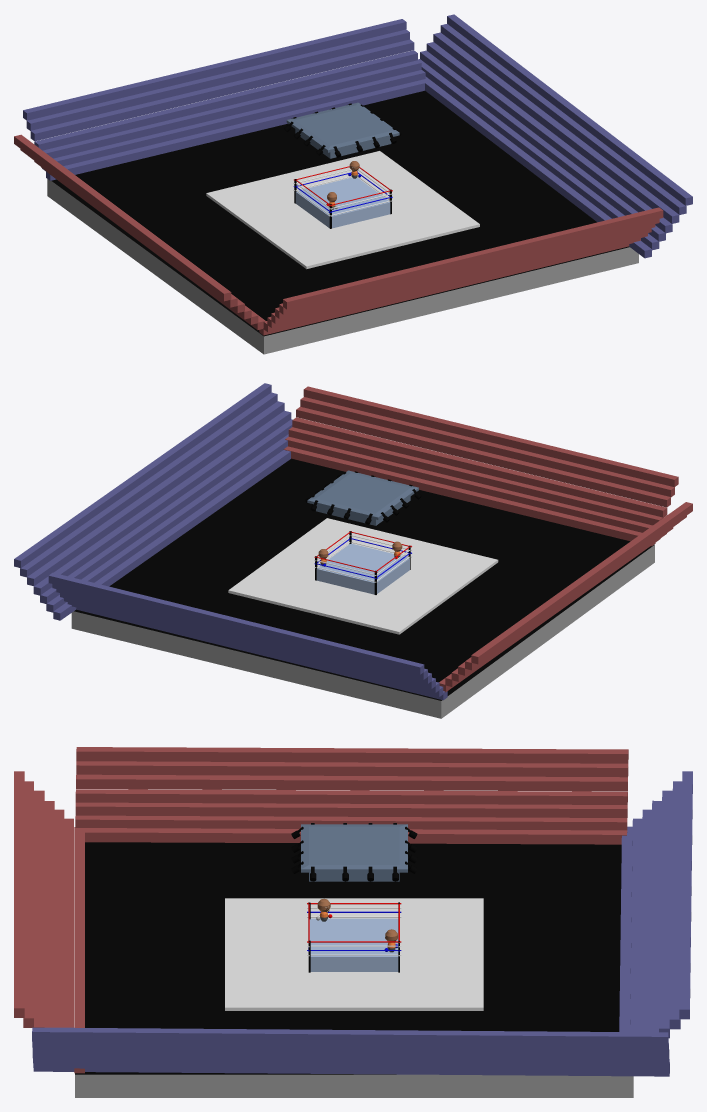
The model's file is wii boxing FBX.fbx.
The picture shows the model from 3 angles, top to bottom: view 1: azimuth 30°, elevation 25°; view 2: azimuth 150°, elevation 25°; view 3: azimuth 270°, elevation 25°; orthographic projection. The views are drawn at different scales.
Visible parts, largest first — view 1: pCube16, pCube25, polySurface4, pCube24, polySurface9, pCube7, pCube1; view 2: pCube16, pCube24, polySurface4, pCube25, polySurface9, pCube7, pCube1; view 3: pCube16, polySurface9, polySurface4, pCube25, pCube24, pCube7, pCube1, pCube12.
Boxes of the visible parts, box(x1,y1,x2,y2) form: pCube16: box(47, 90, 638, 354); pCube25: box(23, 19, 428, 180); polySurface4: box(418, 14, 692, 258); pCube24: box(259, 207, 663, 335); polySurface9: box(14, 134, 265, 330); pCube7: box(286, 102, 399, 158); pCube1: box(295, 177, 390, 228); pCube16: box(71, 458, 654, 718); pCube24: box(283, 386, 678, 546); polySurface4: box(14, 383, 292, 620); pCube25: box(48, 572, 447, 700); polySurface9: box(439, 502, 692, 692); pCube7: box(307, 470, 418, 525); pCube1: box(316, 543, 409, 594); pCube16: box(75, 842, 633, 1097); polySurface9: box(75, 747, 628, 844); polySurface4: box(32, 1027, 669, 1076); pCube25: box(619, 771, 692, 1038); pCube24: box(14, 771, 84, 1073); pCube7: box(301, 824, 407, 881); pCube1: box(309, 918, 398, 971); pCube12: box(291, 826, 417, 873).
Bounding box in the file's own units: 63.96 × 13.92 × 63.43.
